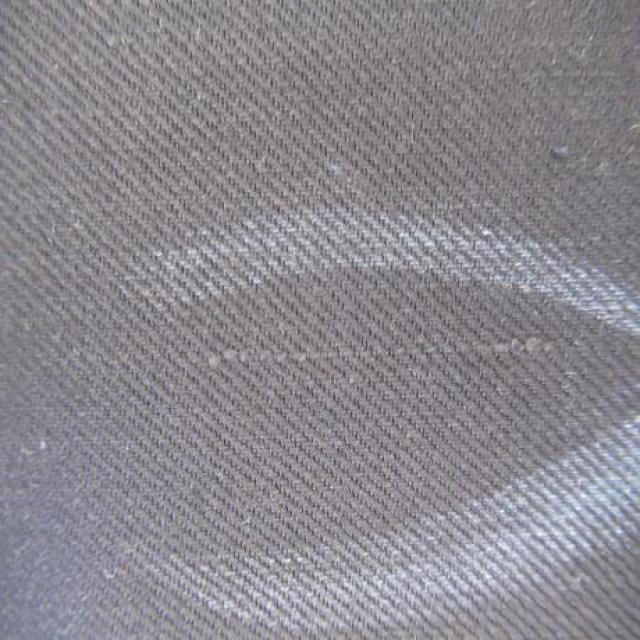stains: (125, 320, 605, 435)
